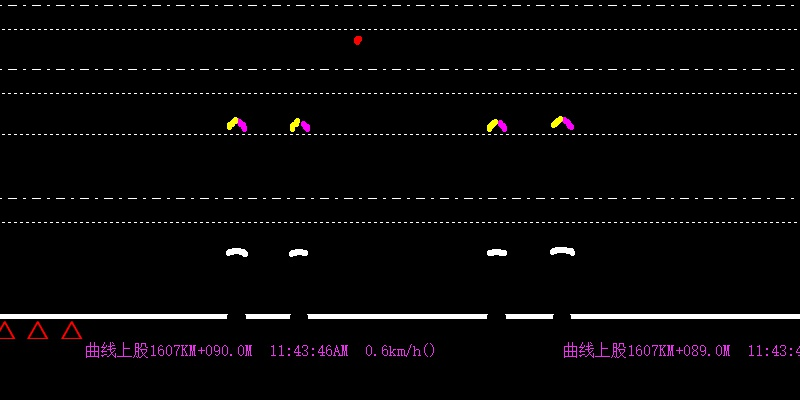L: (212, 112, 592, 267)
face_down: (353, 24, 363, 46)
